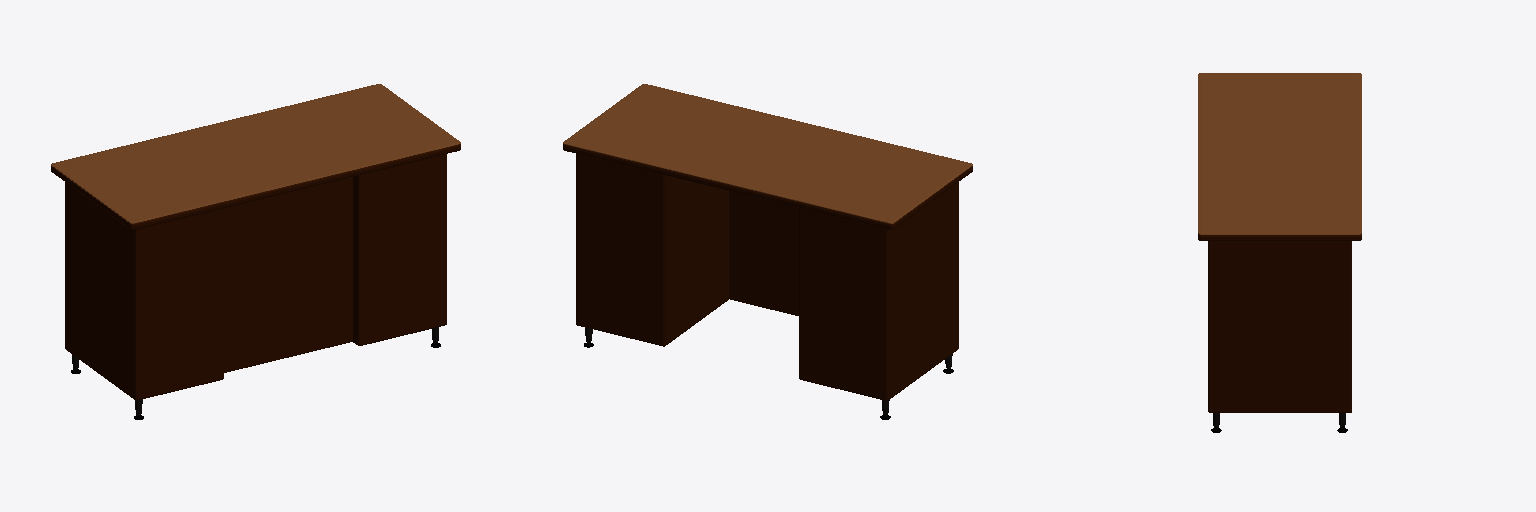
Rendered from teacherDesk.obj.
3 renders of one model, left to right at view 1: azimuth 30°, elevation 25°; view 2: azimuth 150°, elevation 25°; view 3: azimuth 270°, elevation 25°, orthographic.
Visible parts, largest first — view 1: ChamferBox01, ChamferBox01.001; view 2: ChamferBox01, ChamferBox01.001; view 3: ChamferBox01.001, ChamferBox01.
Part boxes in pixels (x1,y1,x2,y2): ChamferBox01: (51,144,460,400); ChamferBox01.001: (51,84,460,223); ChamferBox01: (563,144,972,400); ChamferBox01.001: (563,84,972,223); ChamferBox01.001: (1198,73,1361,234); ChamferBox01: (1198,234,1361,412).
Size of the model in its own units: 1.38 by 0.817 by 0.5906.